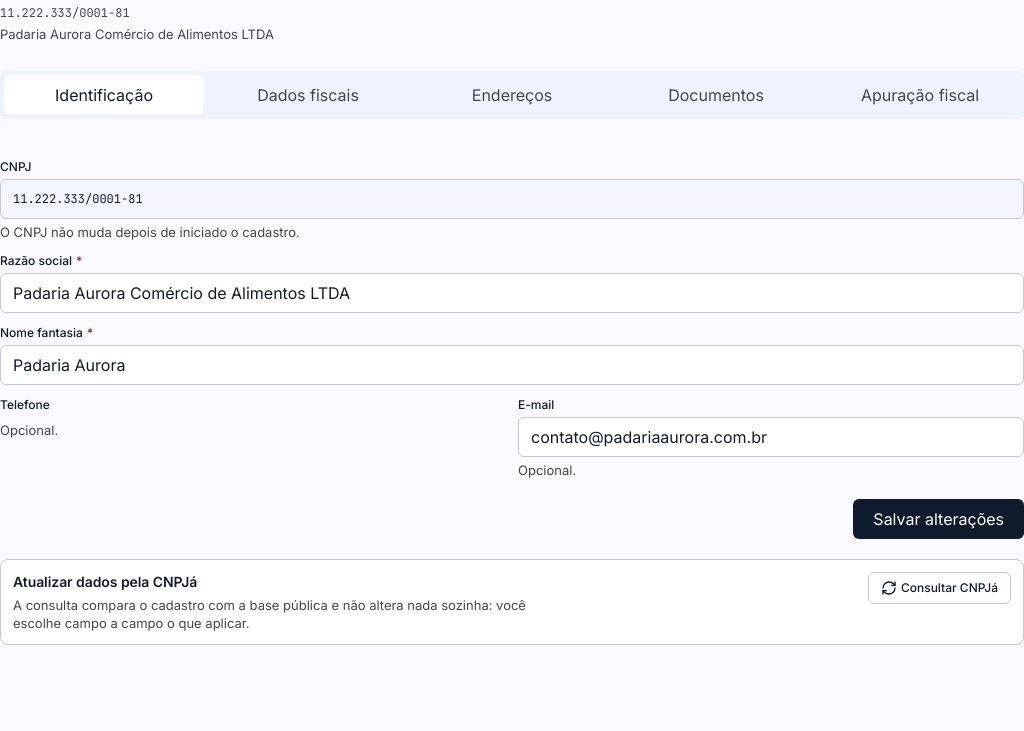
Test: atualização pela CNPJá (§3.3) › informa quando não há diferença
Click the button "Consultar CNPJá".
click(939, 588)  # box x1=868 y1=572 x2=1011 y2=604
(page scrolled)
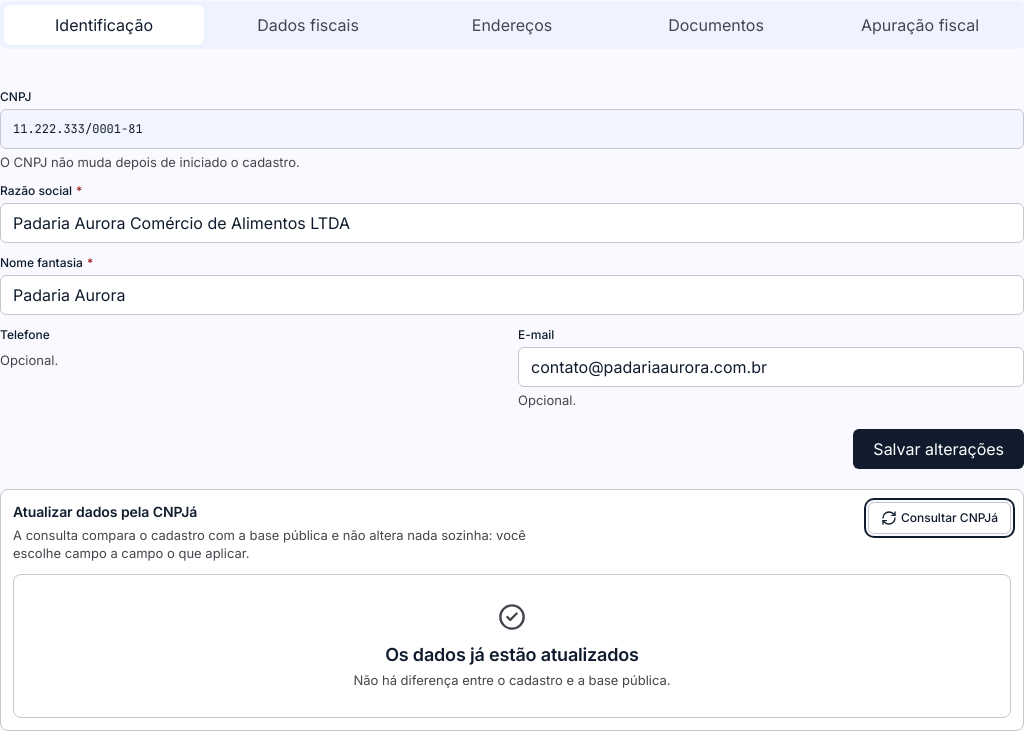
Now the heading "Os dados já estão atualizados" is shown, box x1=385 y1=644 x2=639 y2=665
